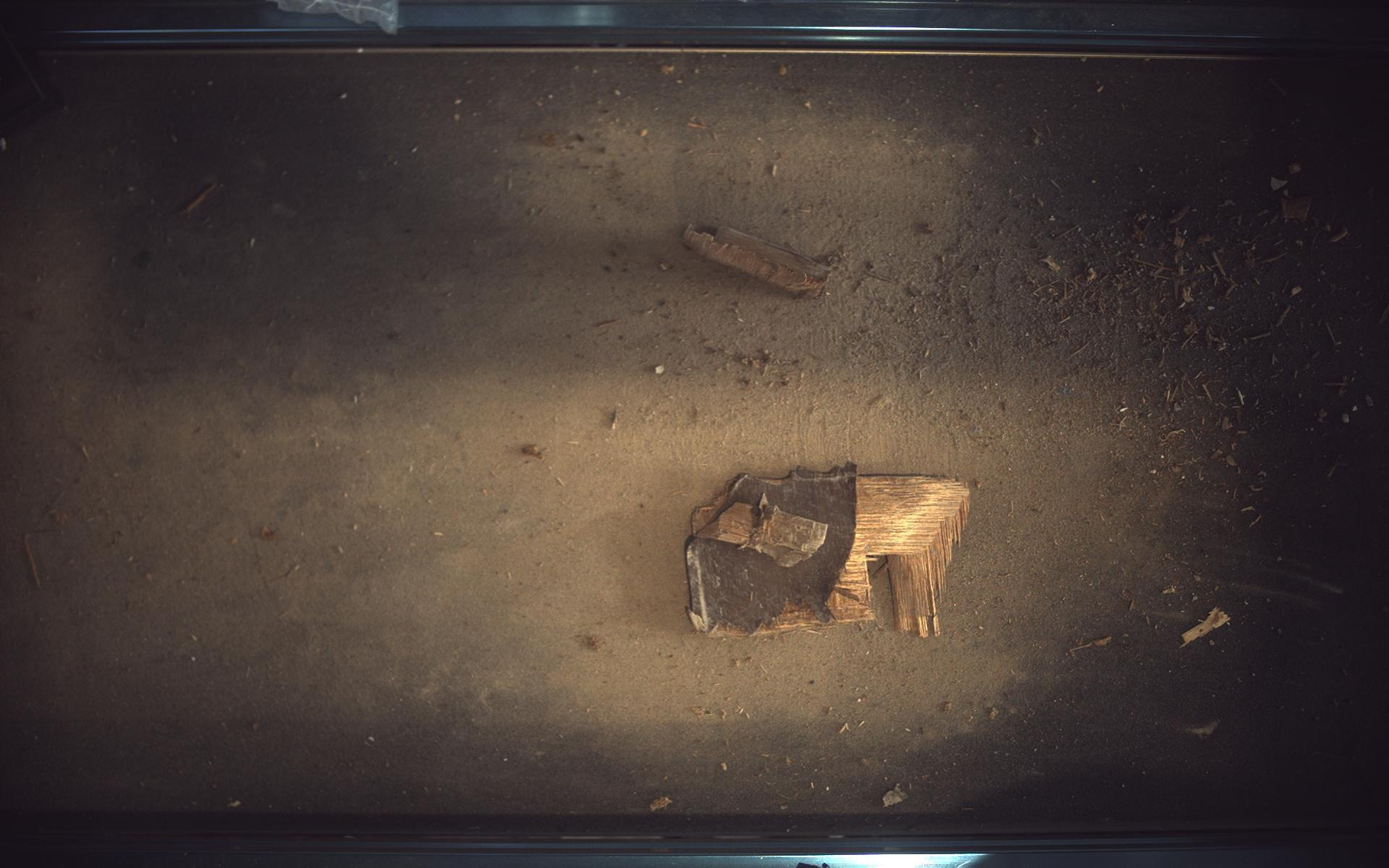wood: (687, 463, 972, 638), (684, 223, 832, 295)
